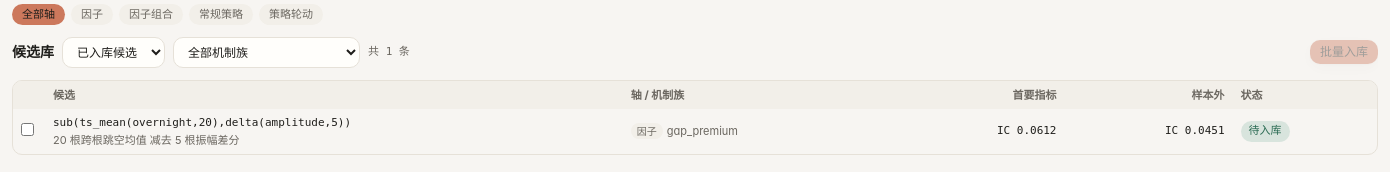
it: DiscoveryCandidates — 候选表 › 切换状态筛选会重新查询并把拒绝原因筛选放出来
This screenshot has width=1390, height=172.
Select "被拒绝" in the dropdown named "按状态筛选". click: point(114, 52)
box: [62,36,165,68]
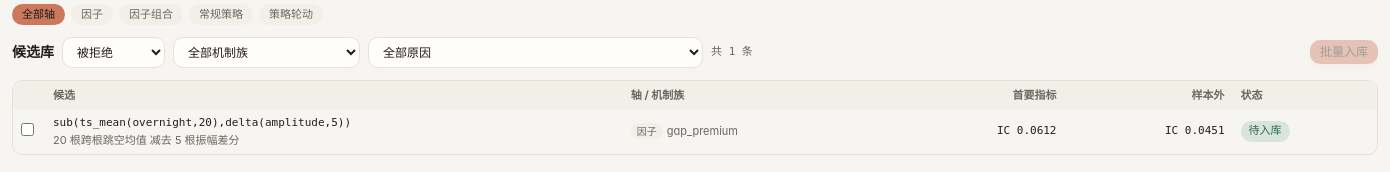
Check: the dropdown named "按拒绝原因筛选" is shown, box [368,36,703,68]
